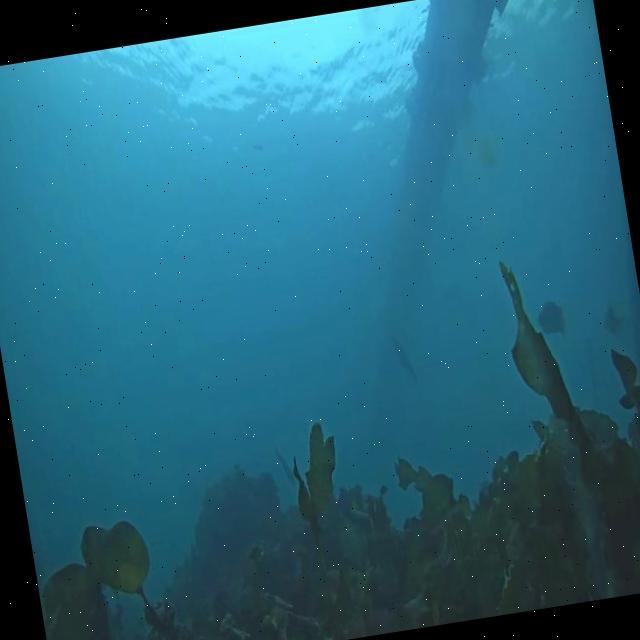fish: (393, 334, 419, 383), (538, 299, 566, 333), (275, 444, 295, 489), (598, 302, 624, 333)
